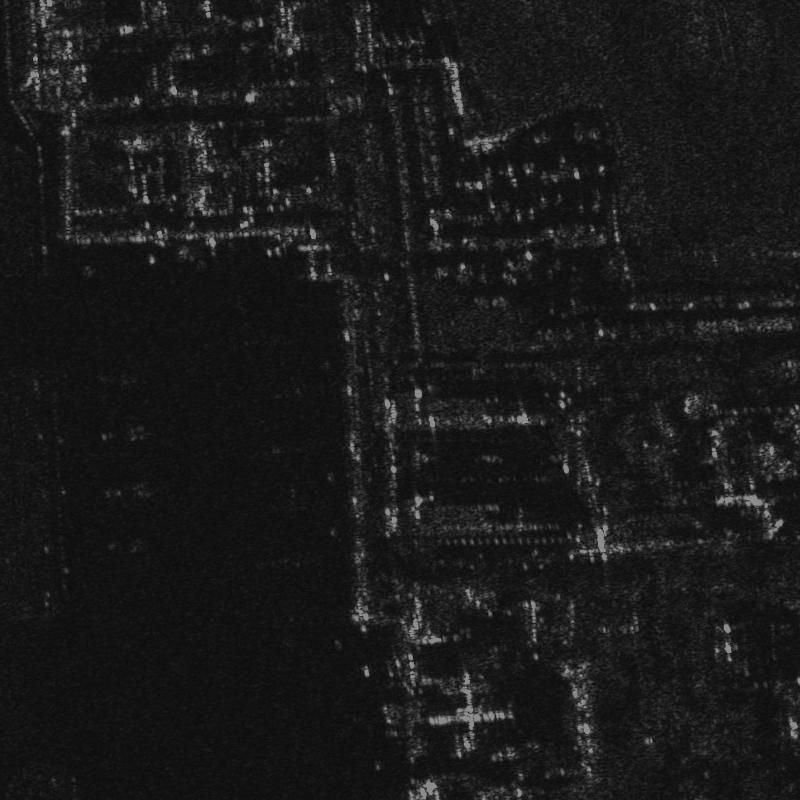ARJ21: (98, 468, 167, 512), (95, 412, 158, 455)
other: (103, 526, 159, 565), (86, 360, 142, 394)
